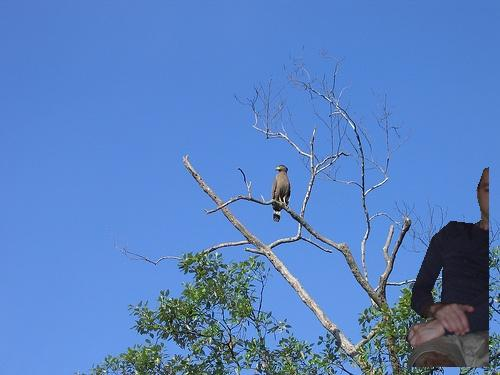tampered: (407, 168, 489, 367)
